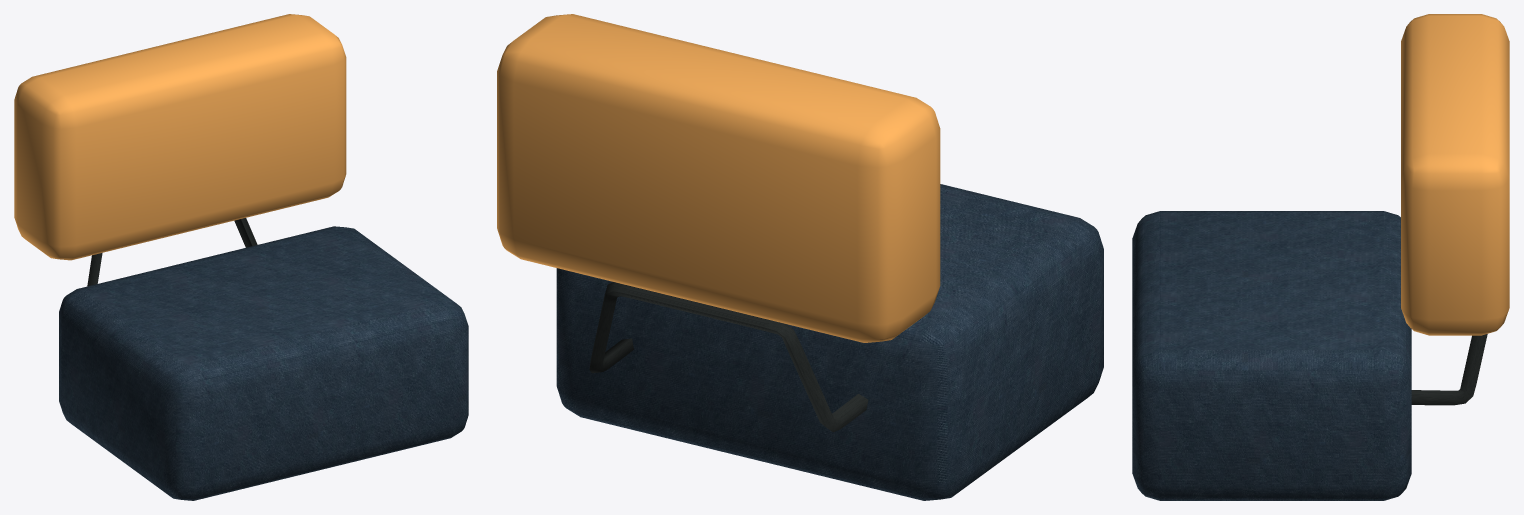
The model's file is chair_3_4.glb.
3 renders of one model, left to right at view 1: azimuth 30°, elevation 25°; view 2: azimuth 150°, elevation 25°; view 3: azimuth 270°, elevation 25°, orthographic. The views are drawn at different scales.
Visible parts, largest first — view 1: chair_3_4; view 2: chair_3_4; view 3: chair_3_4.
Boxes of the visible parts, box(x1,y1,x2,y2) form: chair_3_4: box(14, 14, 468, 500); chair_3_4: box(497, 14, 1103, 500); chair_3_4: box(1132, 14, 1509, 500).
Size of what is drawn, in the model's own units: 1.2 by 1.2 by 1.19.
3 materials, 3 textured.
